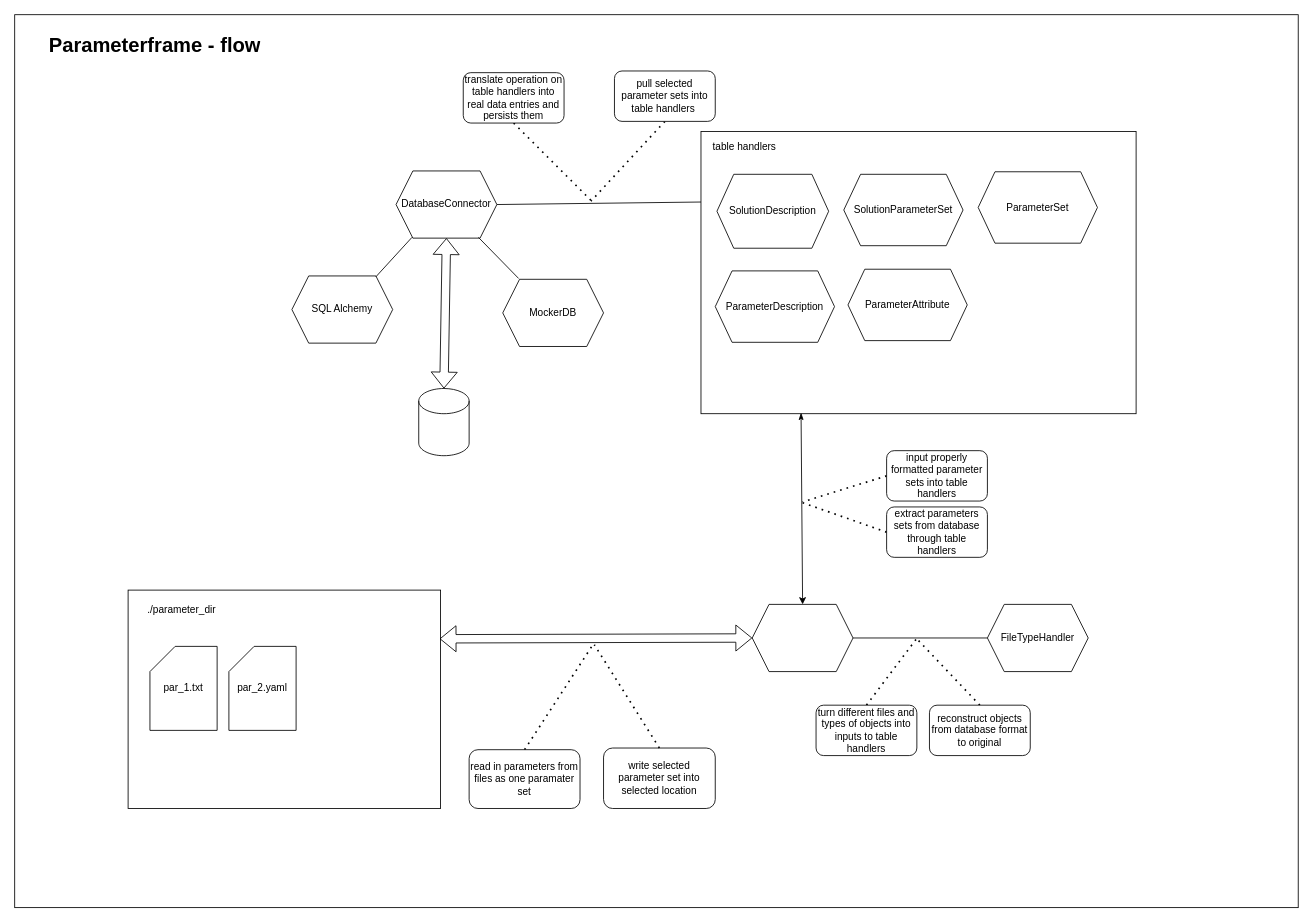
Some shapes in this 1313 by 922 pixel diagram are drawn without their labels. Each missing label, with the centre of its shape:
"ParameterFrame" belongs at pixel 802 638.
"Some database" belongs at pixel 443 422.
